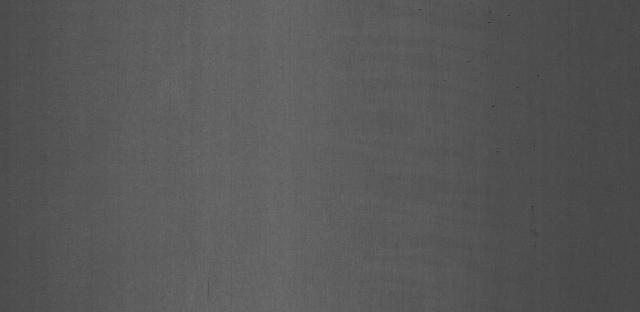inclusion: (488, 99, 508, 115), (528, 200, 538, 212)
